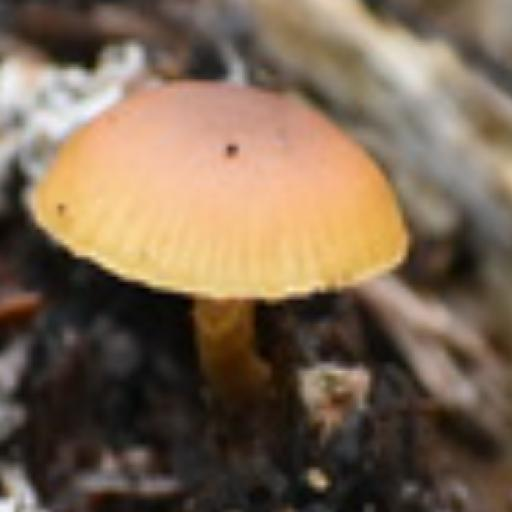Funeral Bell: (30, 75, 412, 447)
